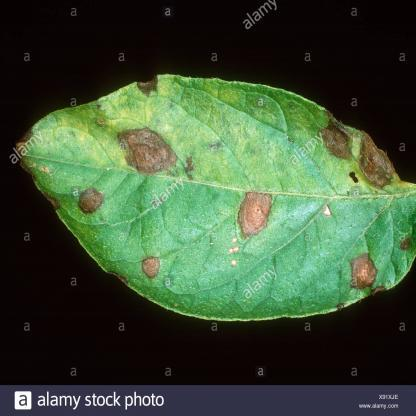Potato leaf late blight: (12, 70, 416, 324)
